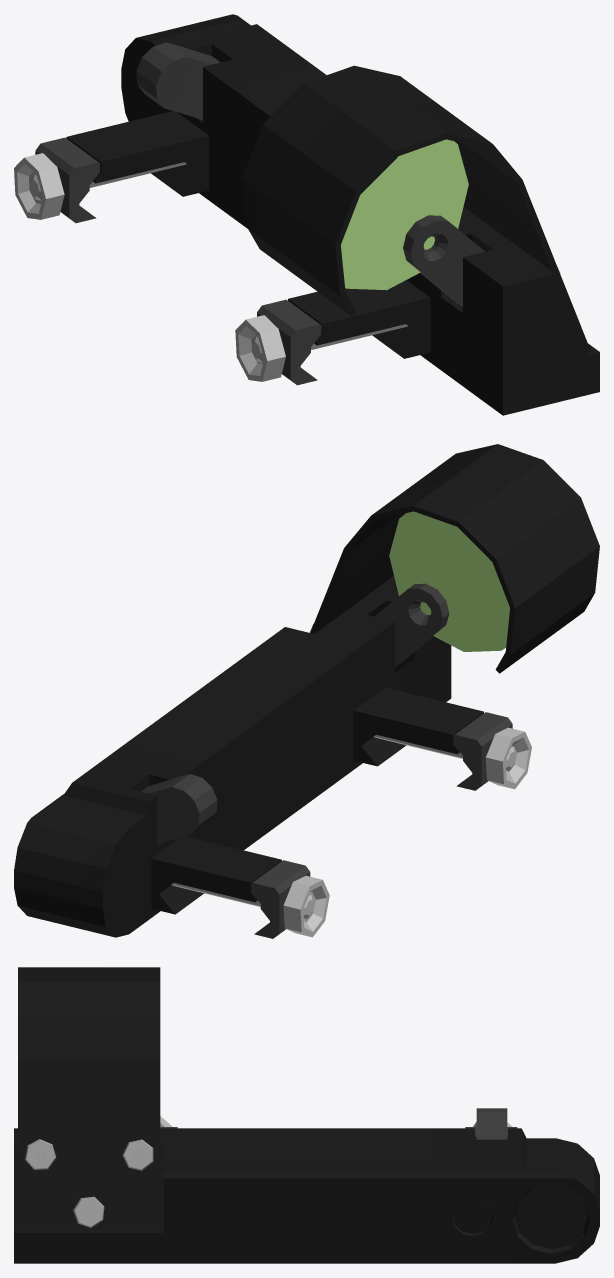
The model's file is Red Dot 2.fbx.
The picture shows the model from 3 angles, top to bottom: view 1: azimuth 30°, elevation 25°; view 2: azimuth 150°, elevation 25°; view 3: azimuth 270°, elevation 25°; orthographic projection. The views are drawn at different scales.
Visible parts, largest first — view 1: Red Dot 2; view 2: Red Dot 2; view 3: Red Dot 2.
Boxes of the visible parts, left/top/right/bottom form: Red Dot 2: left=14, top=14, right=599, bottom=415; Red Dot 2: left=14, top=444, right=599, bottom=938; Red Dot 2: left=14, top=967, right=599, bottom=1263.
Bounding box in the file's own units: 8.39 × 8.97 × 21.15.
